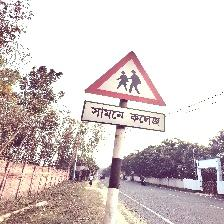College-in-front: (73, 38, 190, 143)
